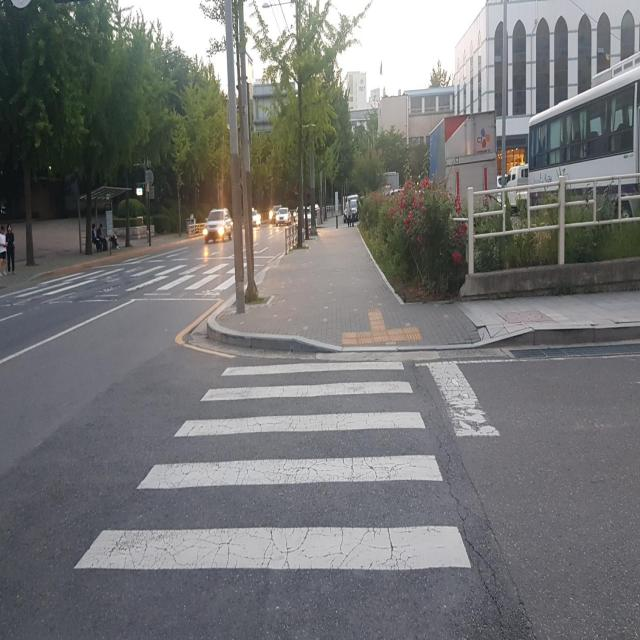횡단보도: (68, 357, 474, 574), (0, 254, 264, 304)
